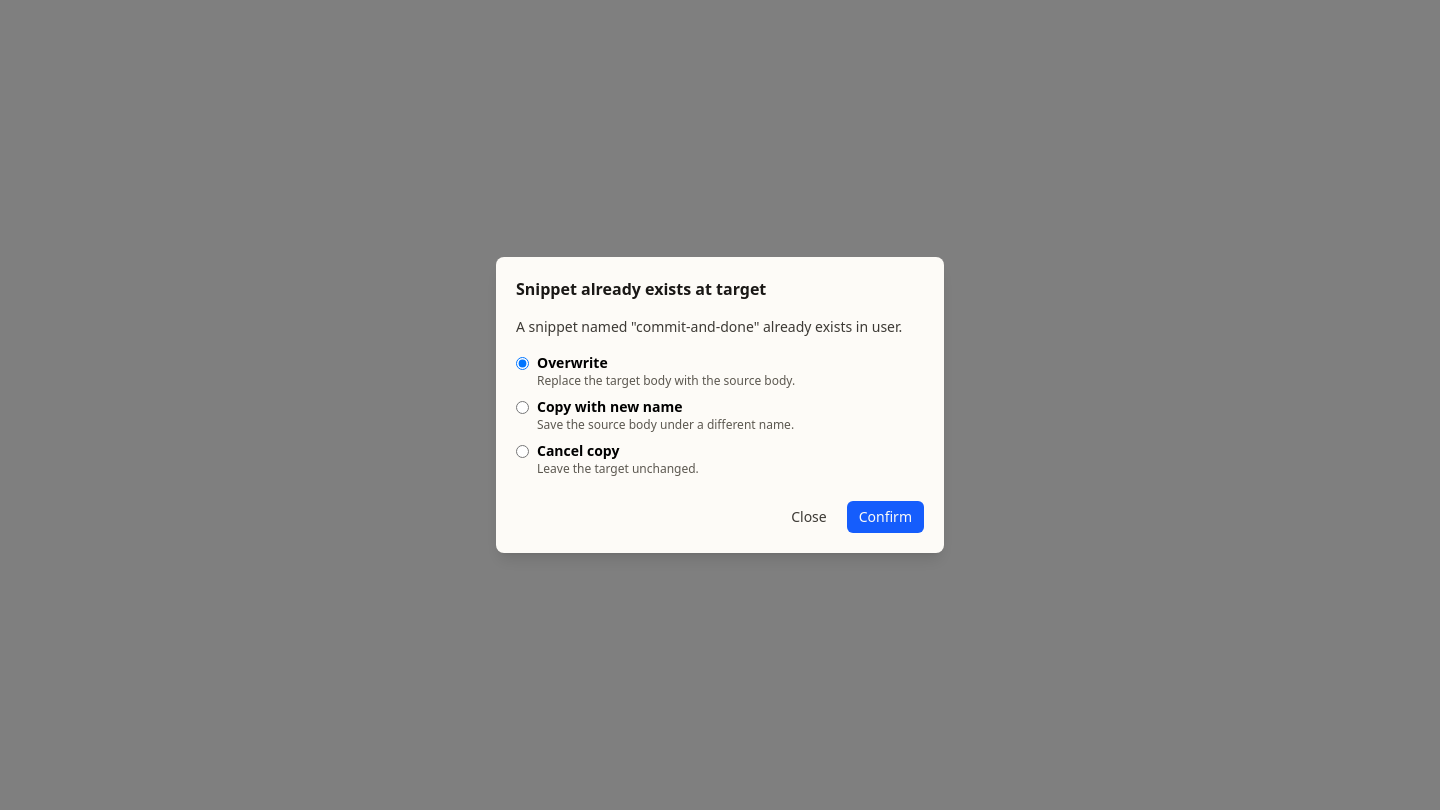
Test: SnippetCopyConflictDialog › flags path separators with the reserved error
Click the radio button with test id "snippet-conflict-rename" at (522, 408), box x1=516 y1=401 x2=529 y2=414
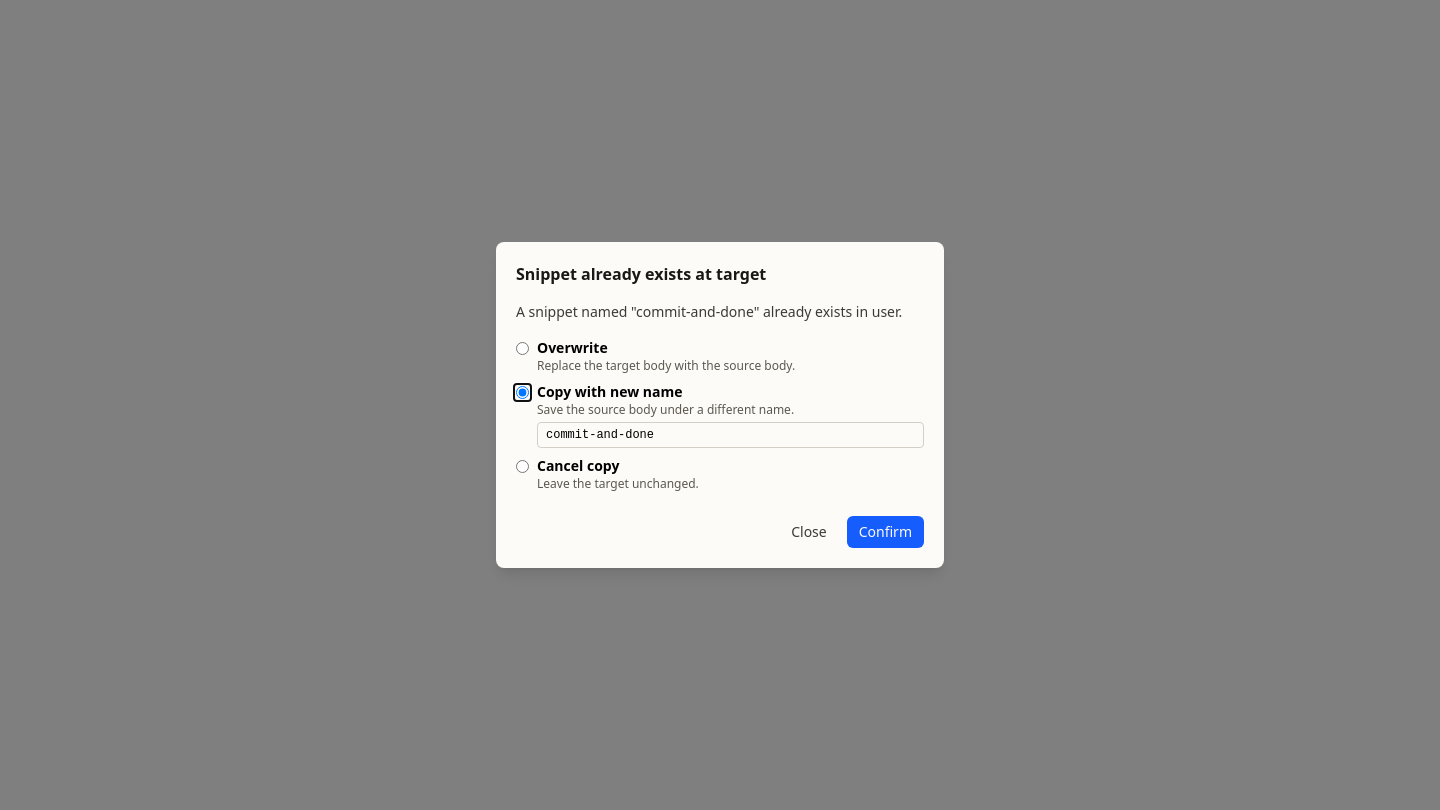
Replace the text in the field with test id "snippet-conflict-rename-input" with "evil/path" at (730, 435), box x1=537 y1=422 x2=924 y2=448
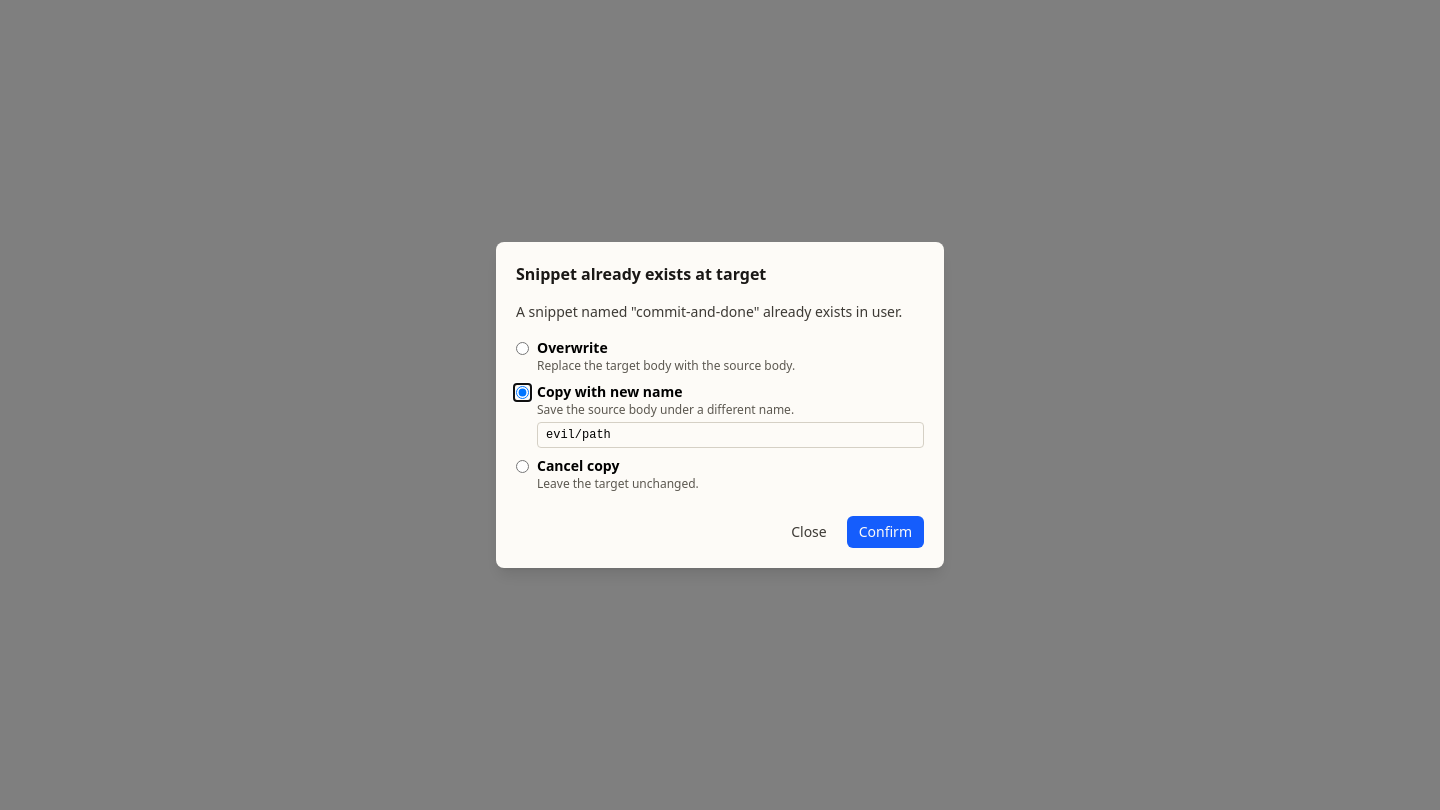
Click the button with test id "snippet-conflict-submit" at (885, 532), box x1=847 y1=516 x2=924 y2=548
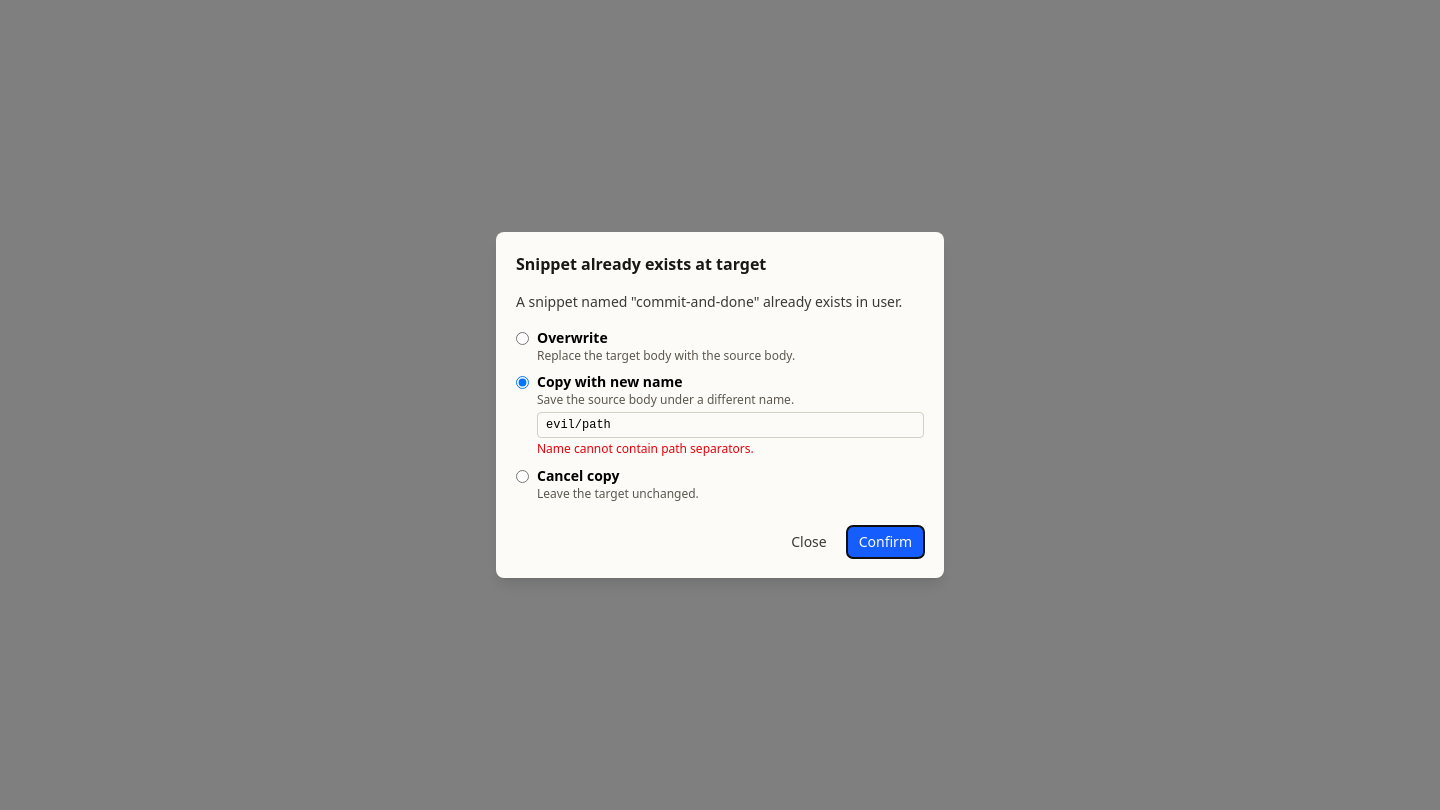
Result: the text with test id "snippet-conflict-rename-error" shows "separator" at x1=537 y1=440 x2=754 y2=457
